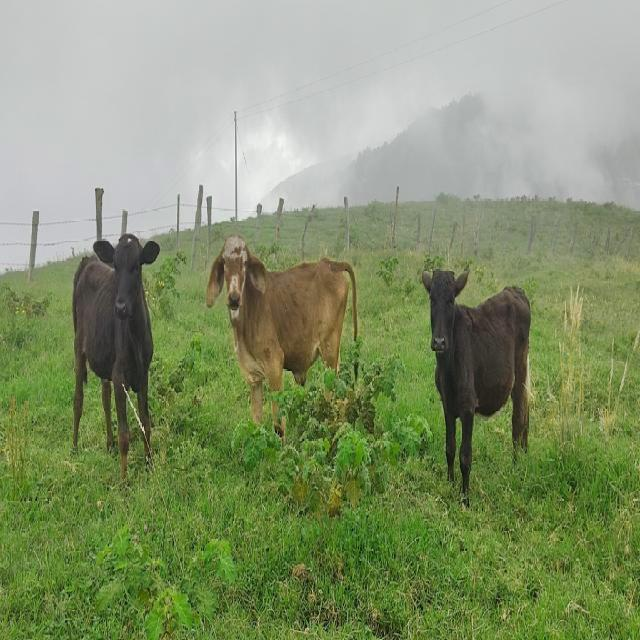cow: (206, 235, 358, 422), (422, 270, 530, 504), (72, 234, 160, 478)
